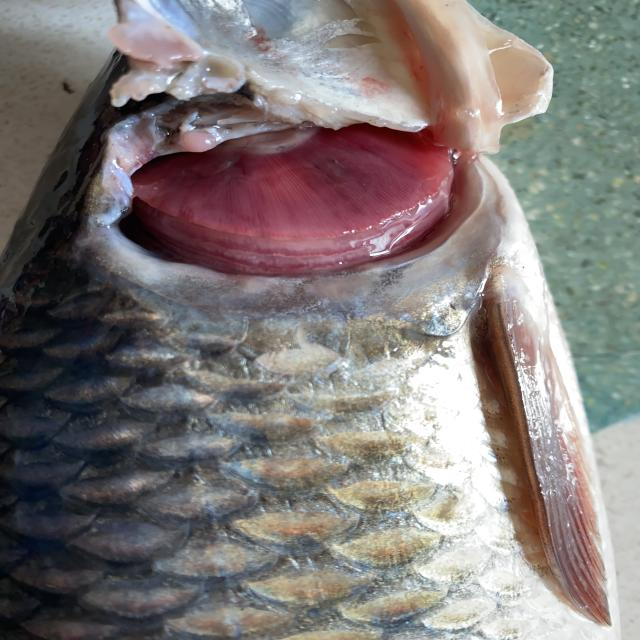Fresh: (87, 97, 494, 286)
